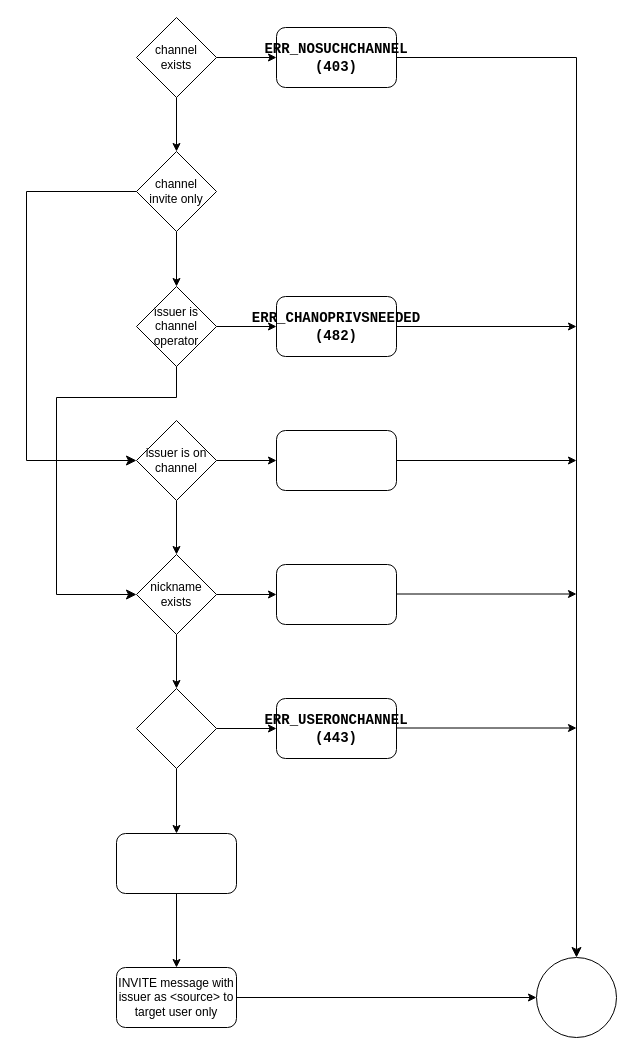
Image size: 634x1055. Some labels were removed from this diagram. The centre of each missing label's shape, as x and y in pixels:
"END" belongs at point 576,997.
"ERR_NOSUCHNICK (401)" belongs at point 336,594.
"ERR_NOTONCHANNEL (442)" belongs at point 336,460.
"nickname !on channel" belongs at point 176,728.
"RPL_INVITING (341)" belongs at point 176,863.
